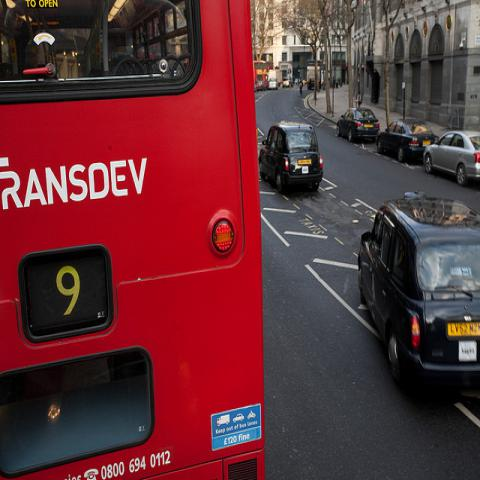bus: (2, 1, 264, 474)
car: (356, 190, 480, 404), (261, 123, 324, 196), (422, 127, 480, 190), (376, 117, 436, 163), (337, 107, 378, 139), (254, 80, 268, 92), (269, 76, 278, 90), (282, 76, 290, 88)
